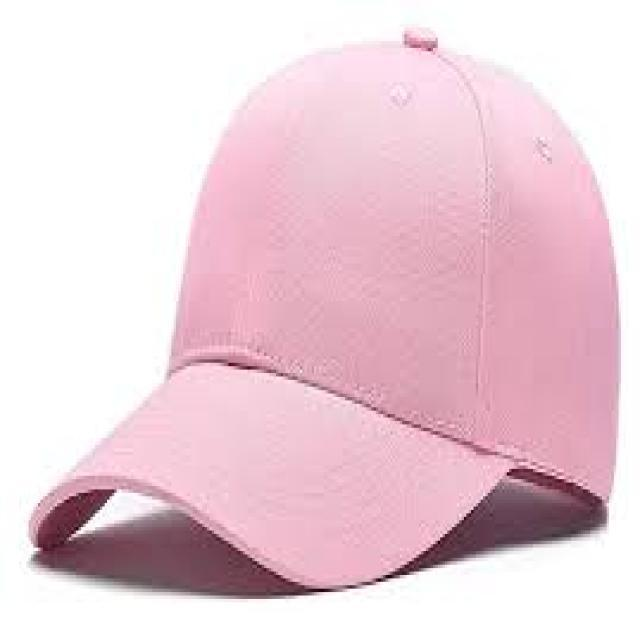cap: (17, 9, 640, 624)
